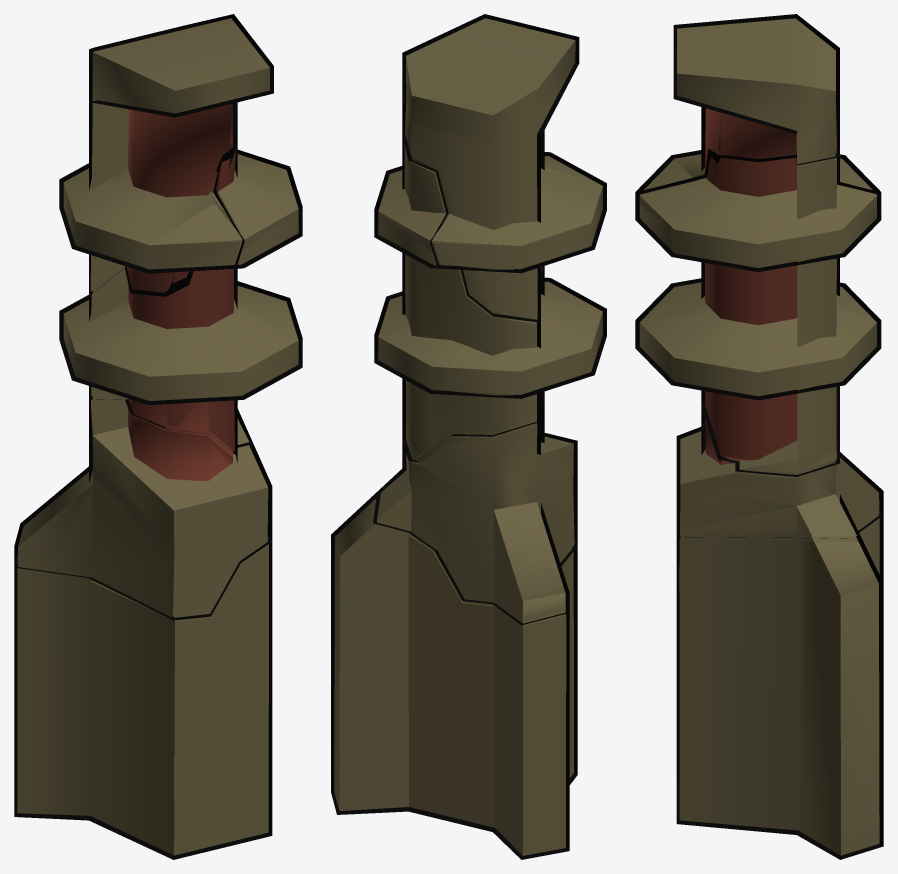
File: Obstacle4.fbx
The picture shows the model from 3 angles, left to right: view 1: azimuth 30°, elevation 25°; view 2: azimuth 150°, elevation 25°; view 3: azimuth 270°, elevation 25°; orthographic projection. The views are drawn at different scales.
Parts seen in each view (by area): view 1: Cube, Fragments, Fragments.002, Fragments.003, Fragments.001; view 2: Cube, Fragments, Fragments.002, Fragments.003, Fragments.001; view 3: Fragments, Cube, Fragments.002, Fragments.003, Fragments.001.
Boxes of the visible parts, x1,y1,x2,y2 form: Cube: (14,14,302,859); Fragments: (14,544,272,859); Fragments.002: (59,144,302,456); Fragments.003: (14,400,271,620); Fragments.001: (59,16,273,296); Cube: (331,14,606,859); Fragments: (331,494,577,855); Fragments.002: (374,134,606,462); Fragments.003: (373,393,577,625); Fragments.001: (402,14,606,322); Fragments: (676,515,883,859); Cube: (635,14,883,858); Fragments.002: (635,148,881,476); Fragments.003: (676,407,883,538); Fragments.001: (673,15,881,195).
Bounding box in the file's own units: 344 × 1017 × 304.
